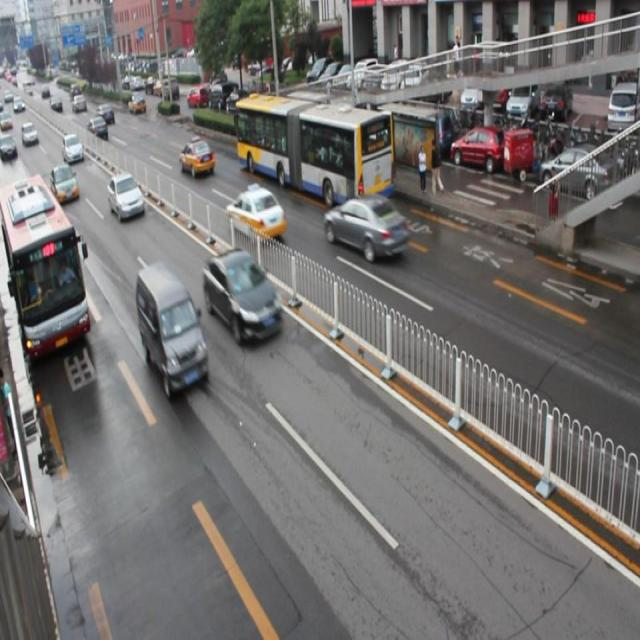car: (204, 248, 283, 343), (323, 196, 411, 260), (226, 181, 284, 241), (107, 171, 144, 221), (178, 136, 215, 177), (51, 162, 79, 202)
truck: (137, 259, 210, 395)
van: (233, 90, 389, 207), (0, 176, 90, 362)
